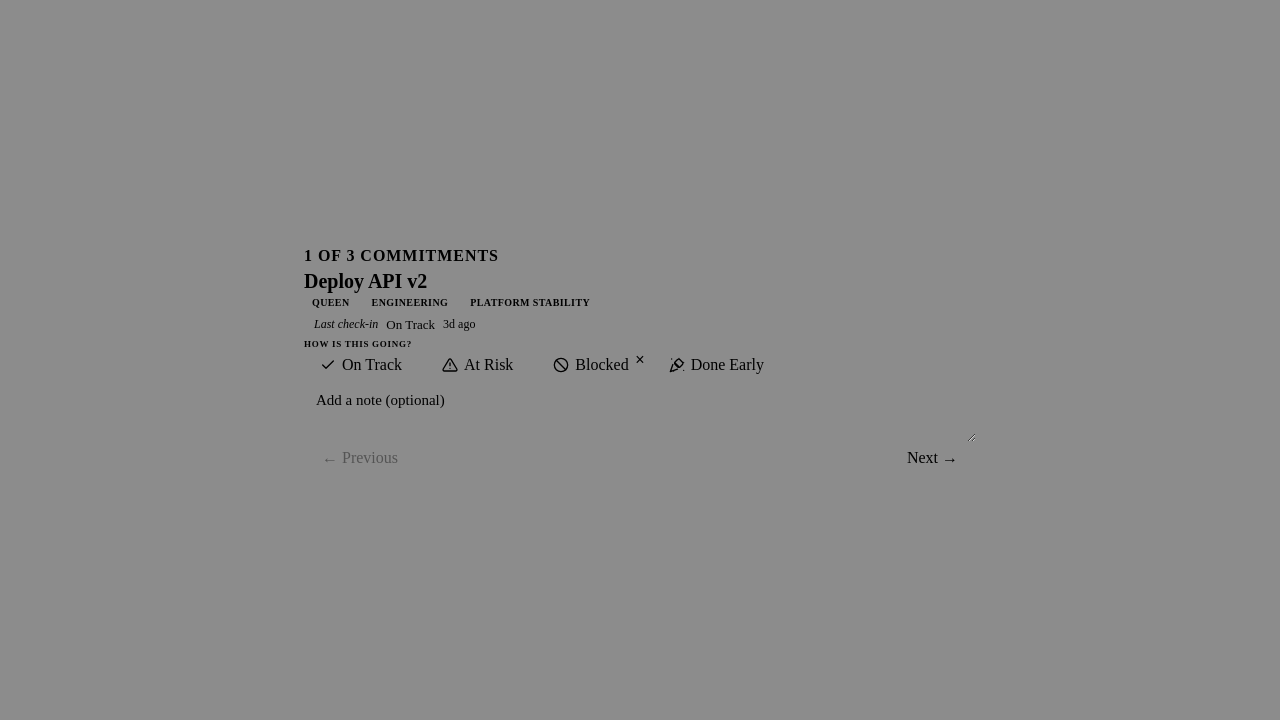
Scenario: QuickUpdateFlow › clicking Next advances to the second card
Click the button with test id "quick-update-next" at [932, 458], box [889,442,976,474]
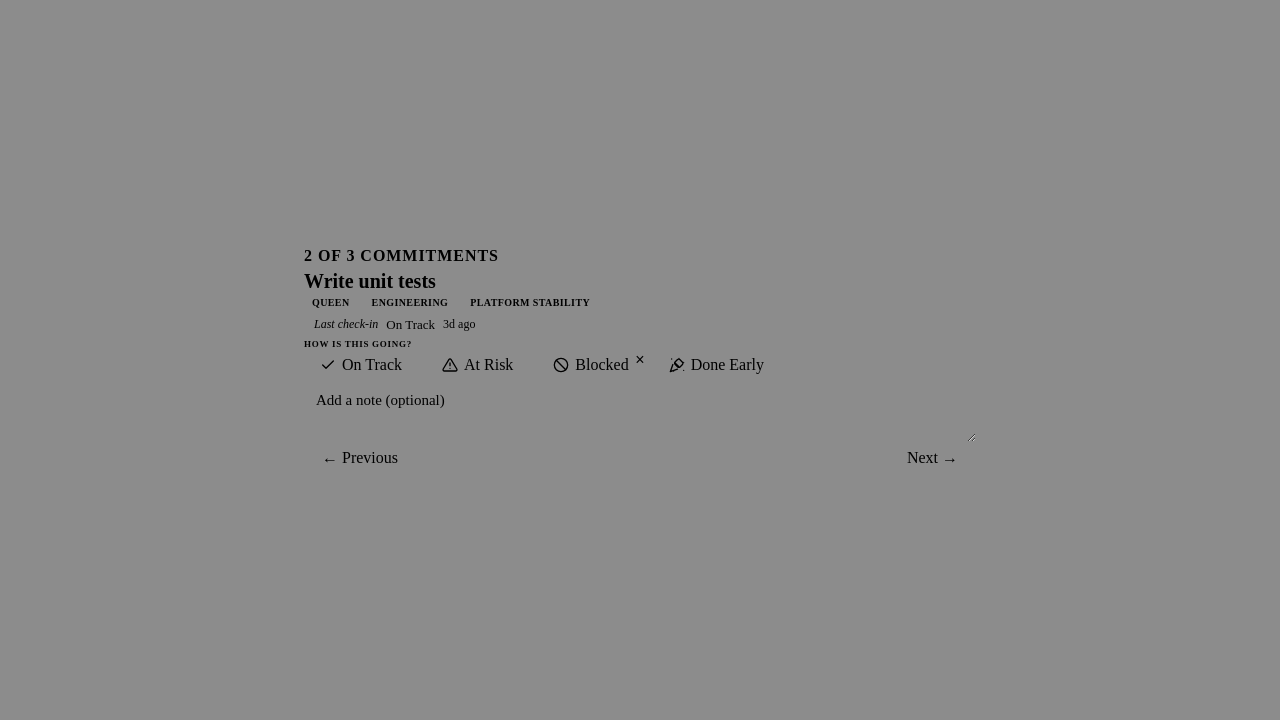
Check: the element with test id "quick-update-card" shows "Write unit tests", box [304,270,436,292]
Check: the element with test id "quick-update-progress" shows "2 of 3", box [304,246,499,264]
